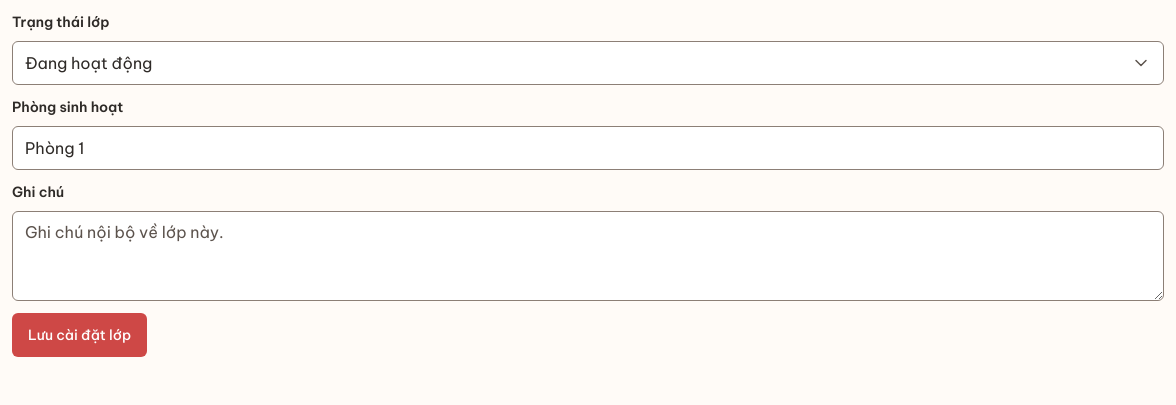
mọi thao tác ghi nói ra kết quả (D-61 / AC-M02-04) › RLS chặn (0 dòng, không lỗi) vẫn phải hiện ra là THẤT BẠI — SW-04
What coordinates should you click on to do the following:
click the button "Lưu cài đặt lớp"
I would click on:
 (80, 335)
Its box is [12, 313, 147, 357].
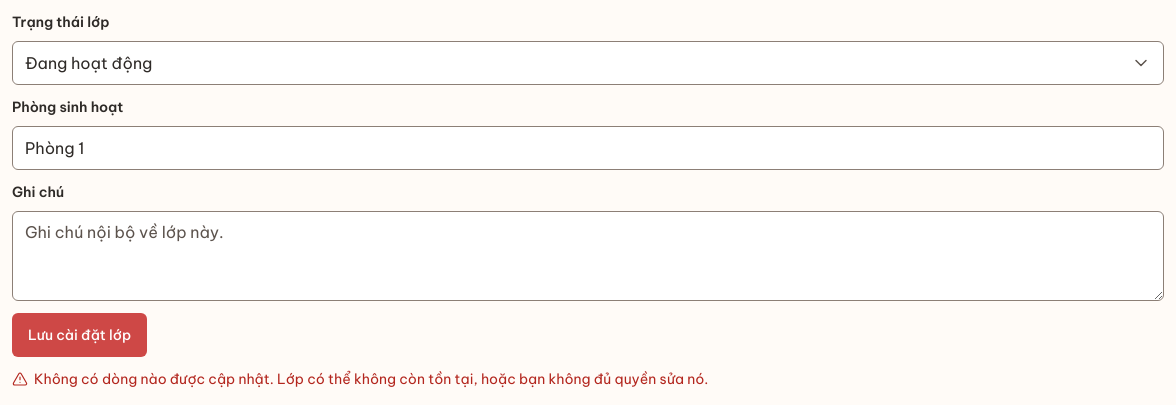
Result: the message shows "Không có dòng nào được cập nhật" at [34, 370, 708, 388]
